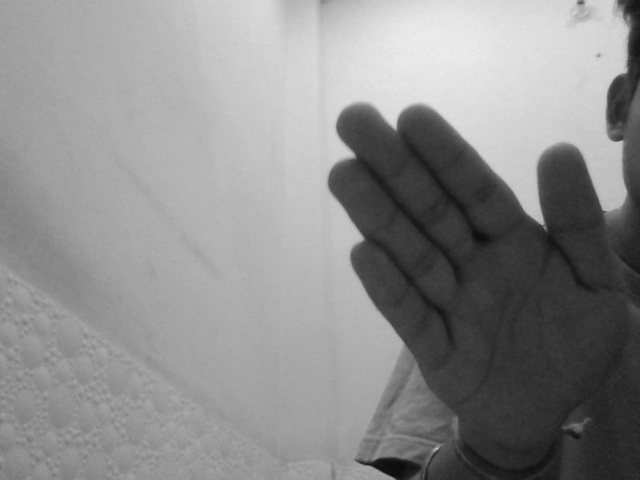Hello: (317, 97, 627, 451)
